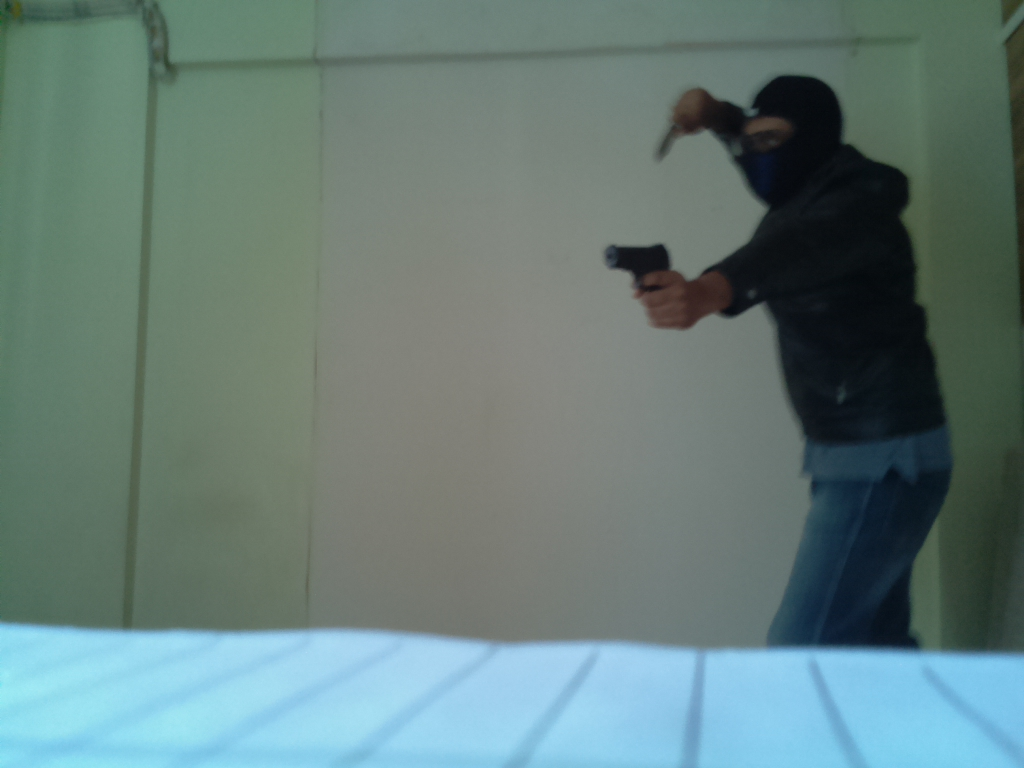gun: (601, 242, 687, 303)
